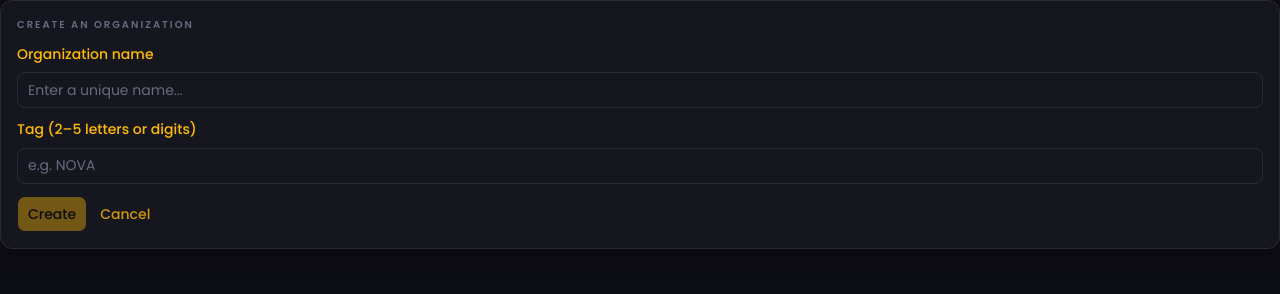
Test: CreateOrganisationForm › shows why the creation was refused
The image size is (1280, 294).
In the field labelled "Organization name": [640, 90] box x1=17 y1=72 x2=1263 y2=108, type "Nova Corp"
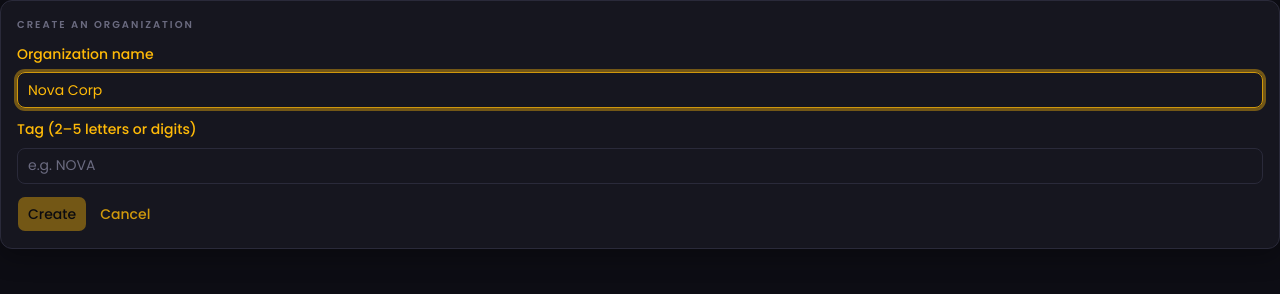
In the field labelled "Tag (2–5 letters or digits)": [640, 166] box x1=17 y1=148 x2=1263 y2=184, type "NOVA"
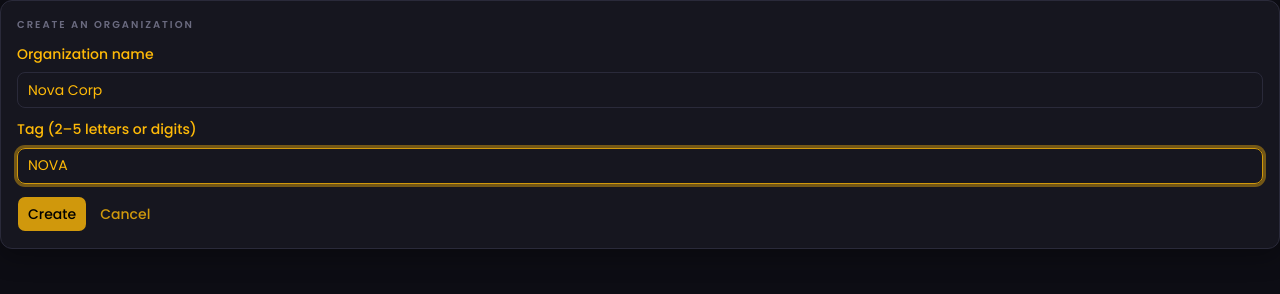
Click the button "Create": [52, 214] box x1=17 y1=196 x2=87 y2=232
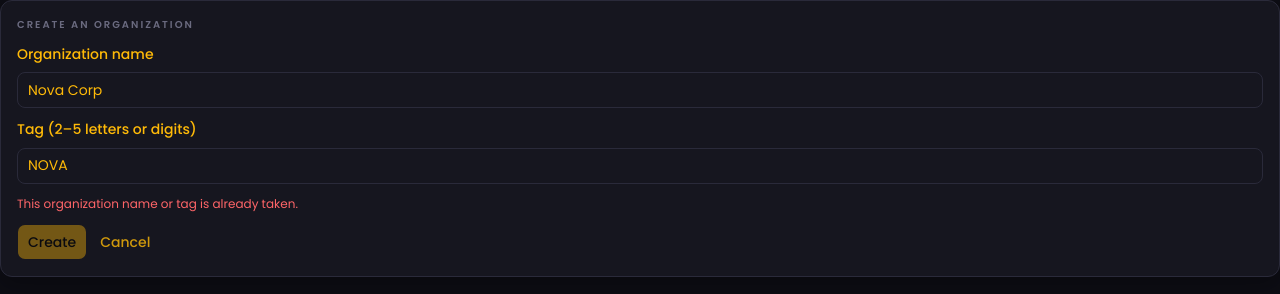
Now the text "This organization name or tag is already taken." is shown, box x1=17 y1=194 x2=298 y2=212
